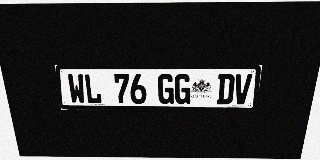6: (130, 74, 147, 104)
7: (113, 74, 130, 104)
D: (216, 74, 235, 104)
G: (174, 74, 191, 104), (158, 74, 174, 104)
L: (84, 74, 102, 104)
V: (233, 74, 252, 104)
W: (67, 74, 86, 104)
